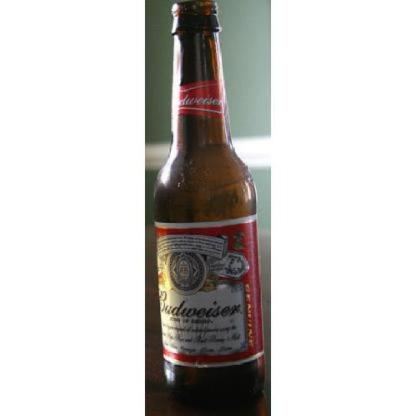Can: (152, 0, 267, 405)
